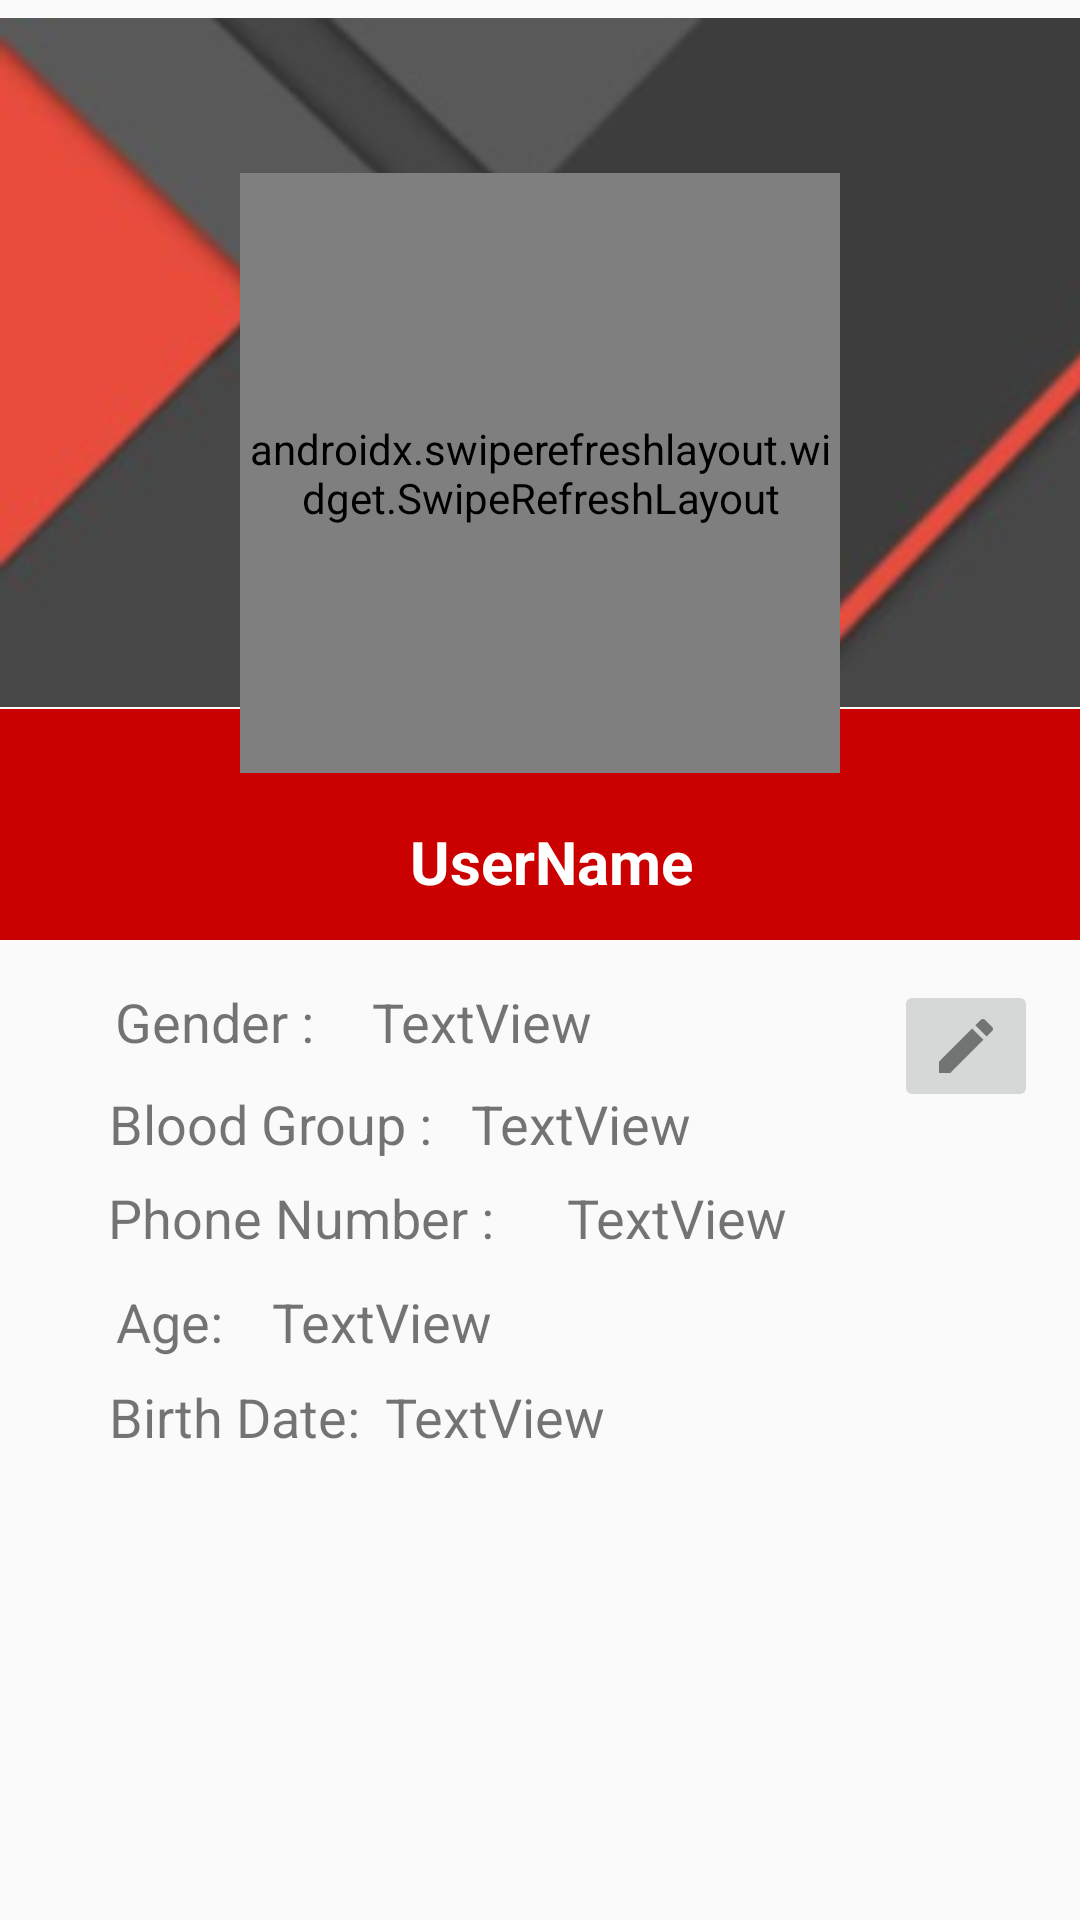

Icon bounding boxes for this 1080 × 1920 phone screenshot, format (x1, y1, x2, y2):
edit: (906, 998, 1026, 1094)
